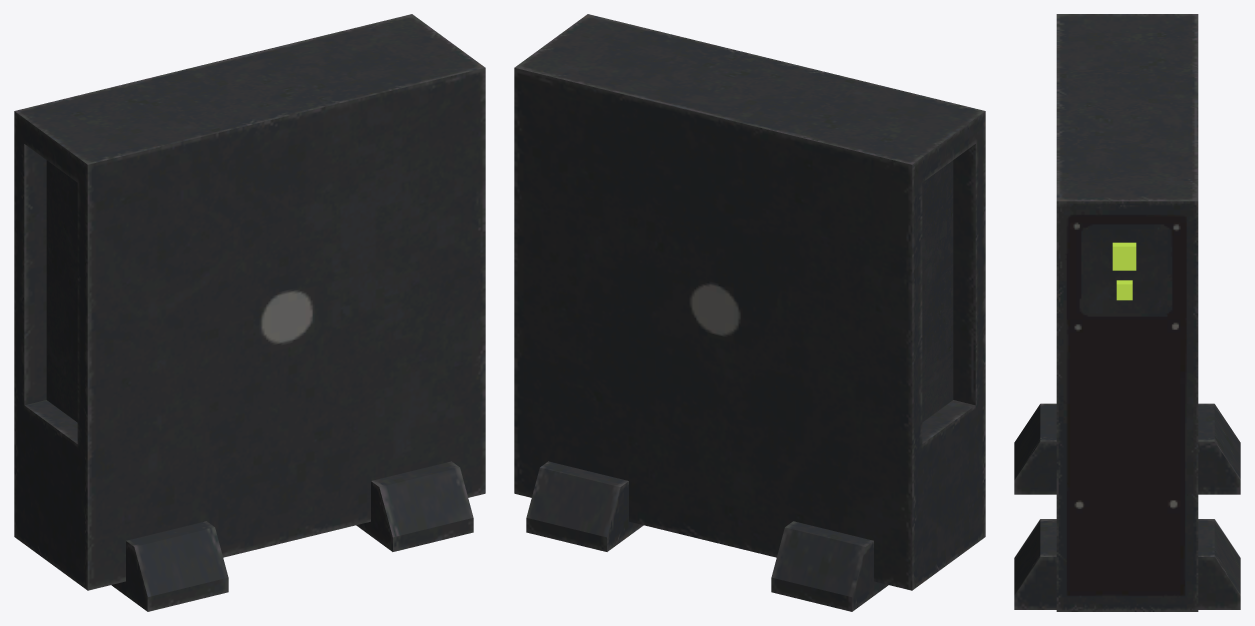
Rendered from SM_computer_a.fbx.
3 renders of one model, left to right at view 1: azimuth 30°, elevation 25°; view 2: azimuth 150°, elevation 25°; view 3: azimuth 270°, elevation 25°, orthographic. The views are drawn at different scales.
Visible parts, largest first — view 1: polySurface388; view 2: polySurface388; view 3: polySurface388.
Part boxes in pixels (x1,y1,x2,y2): polySurface388: [14, 14, 485, 611]; polySurface388: [514, 14, 985, 611]; polySurface388: [1014, 14, 1240, 611].
Bounding box in the file's own units: 0.3326 × 0.3442 × 0.166.
